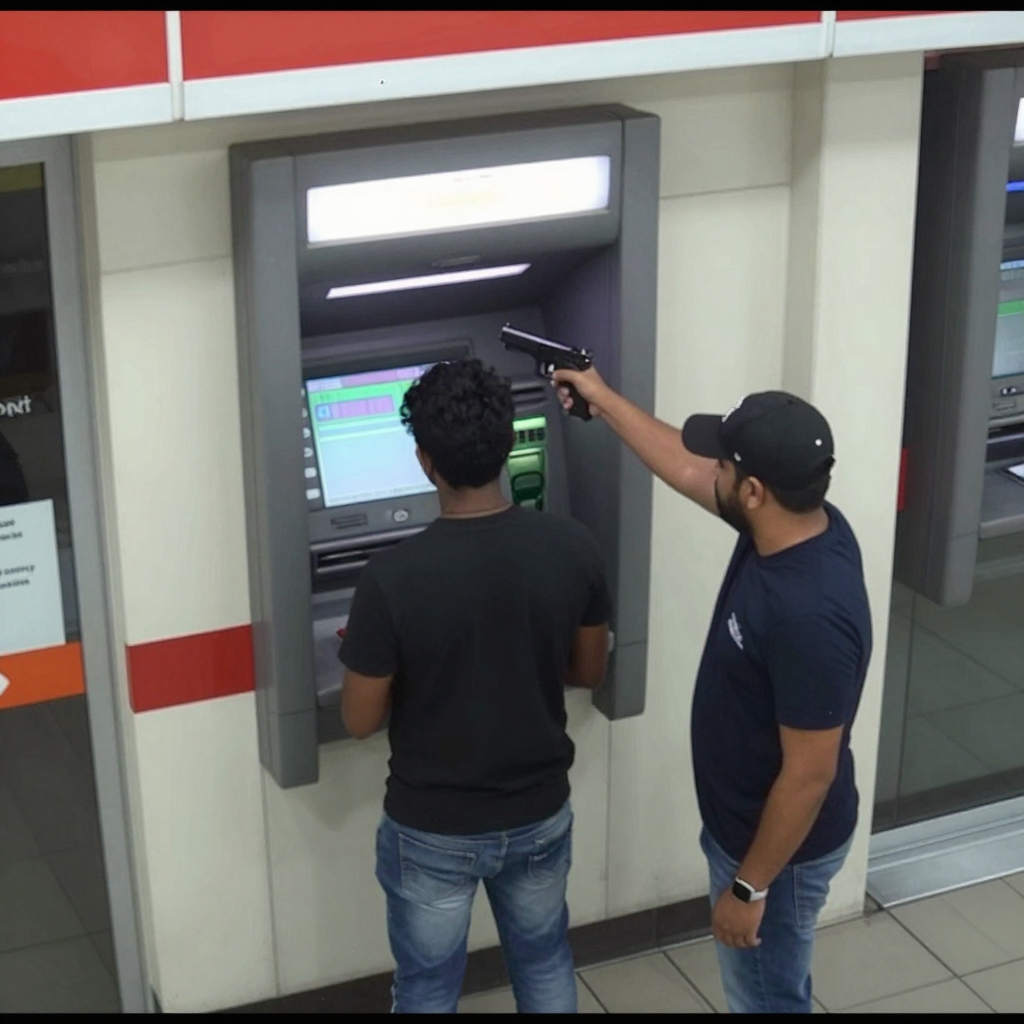Robbery: (549, 361, 874, 1015), (337, 359, 613, 1015)
Shooting: (498, 322, 594, 423)
